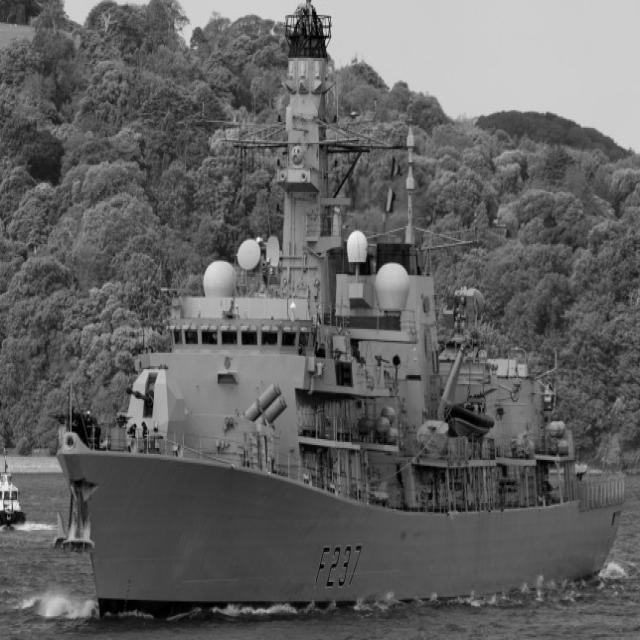Fragata: (55, 1, 628, 628)
